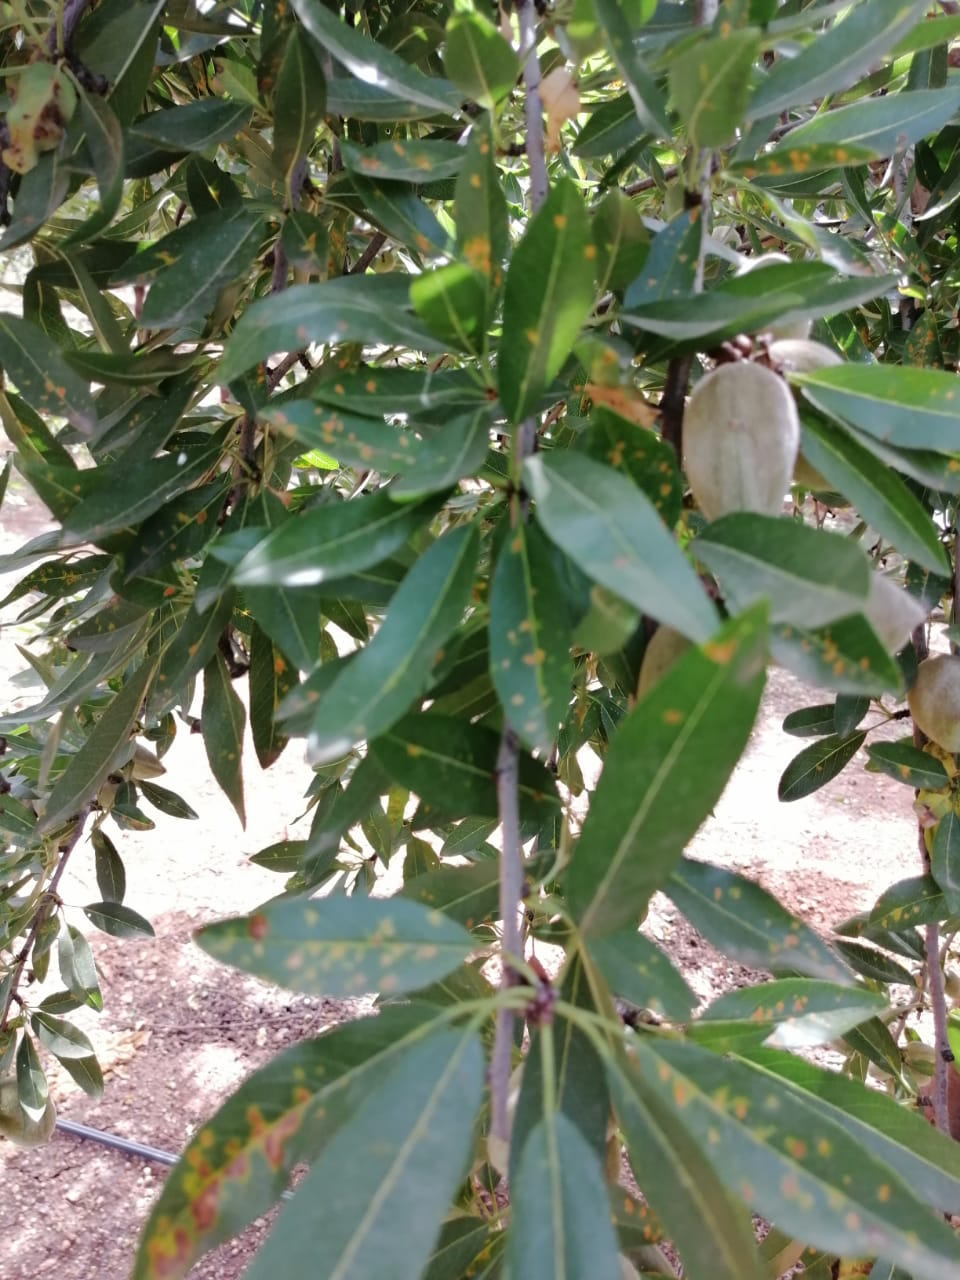rouille: (1, 902, 311, 1280), (406, 465, 960, 650), (532, 790, 960, 949), (478, 615, 774, 758), (156, 157, 256, 496), (303, 341, 401, 556), (149, 17, 237, 248), (271, 368, 349, 581)
